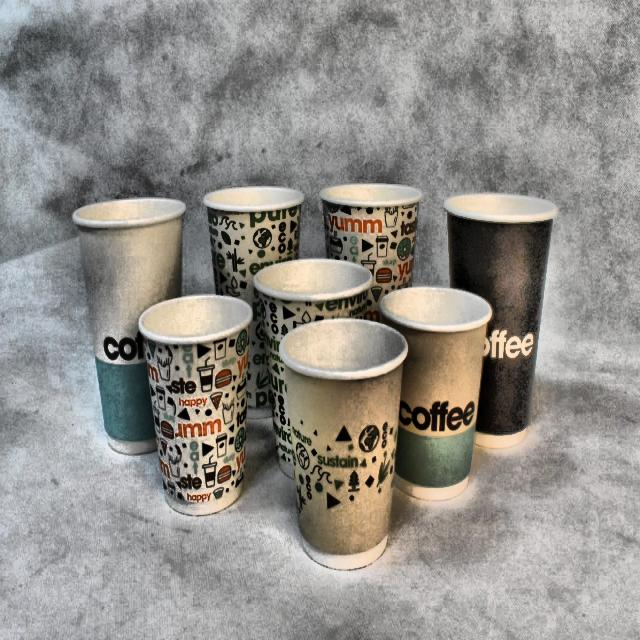Cup: (437, 182, 555, 450), (276, 312, 395, 573), (70, 191, 188, 454), (134, 288, 253, 528), (252, 260, 378, 482), (370, 286, 490, 509), (202, 180, 305, 425)
